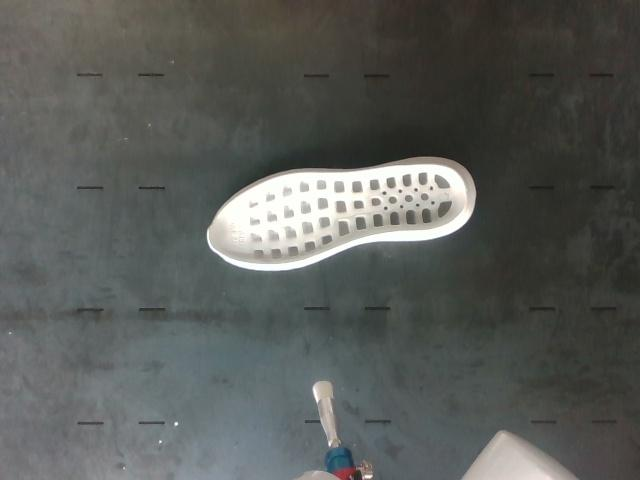shoes: (209, 164, 467, 264)
